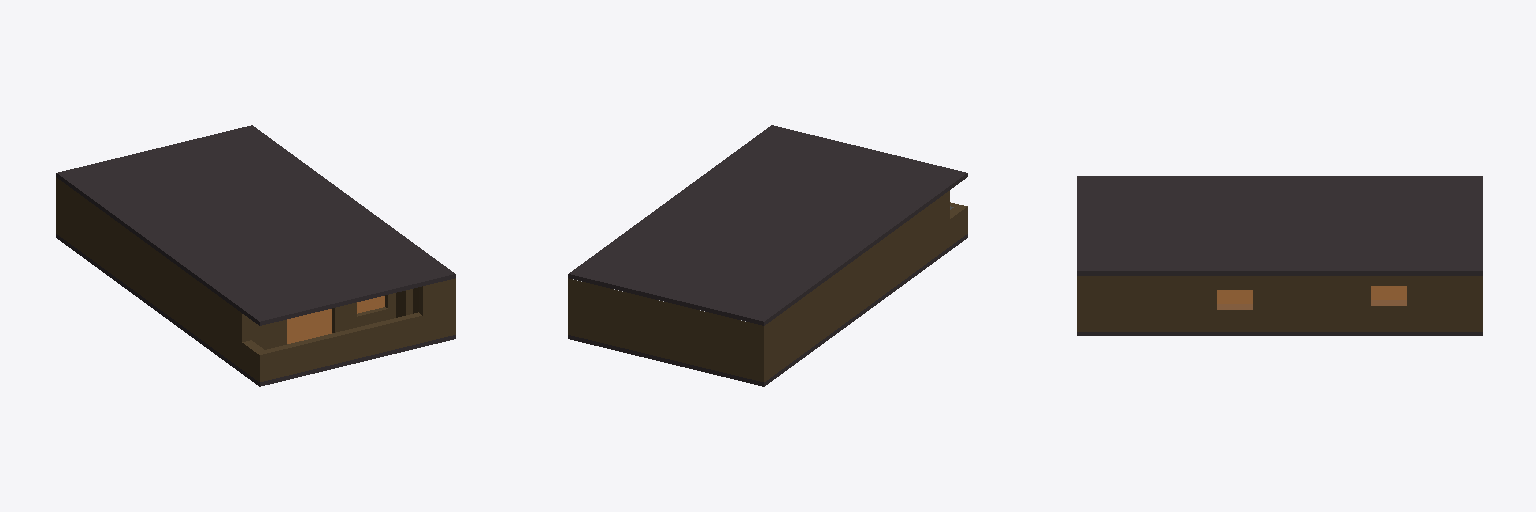
The model's file is apartment.obj.
The picture shows the model from 3 angles: view 1: azimuth 30°, elevation 25°; view 2: azimuth 150°, elevation 25°; view 3: azimuth 270°, elevation 25°; orthographic projection.
Parts seen in each view (by area): view 1: Mesh3 Model, Mesh1 Group1 Model, Mesh2 Model; view 2: Mesh3 Model, Mesh1 Group1 Model, Mesh2 Model; view 3: Mesh3 Model, Mesh1 Group1 Model, Mesh2 Model.
Part boxes in pixels (x1,y1,x2,y2): Mesh3 Model: (56,125,455,325); Mesh1 Group1 Model: (56,177,455,381); Mesh2 Model: (56,234,455,386); Mesh3 Model: (568,125,967,325); Mesh1 Group1 Model: (568,191,967,381); Mesh2 Model: (568,234,967,386); Mesh3 Model: (1077,176,1482,275); Mesh1 Group1 Model: (1077,276,1482,331); Mesh2 Model: (1077,286,1482,335).
Bounding box in the file's own units: 9.91 × 3.15 × 17.82.